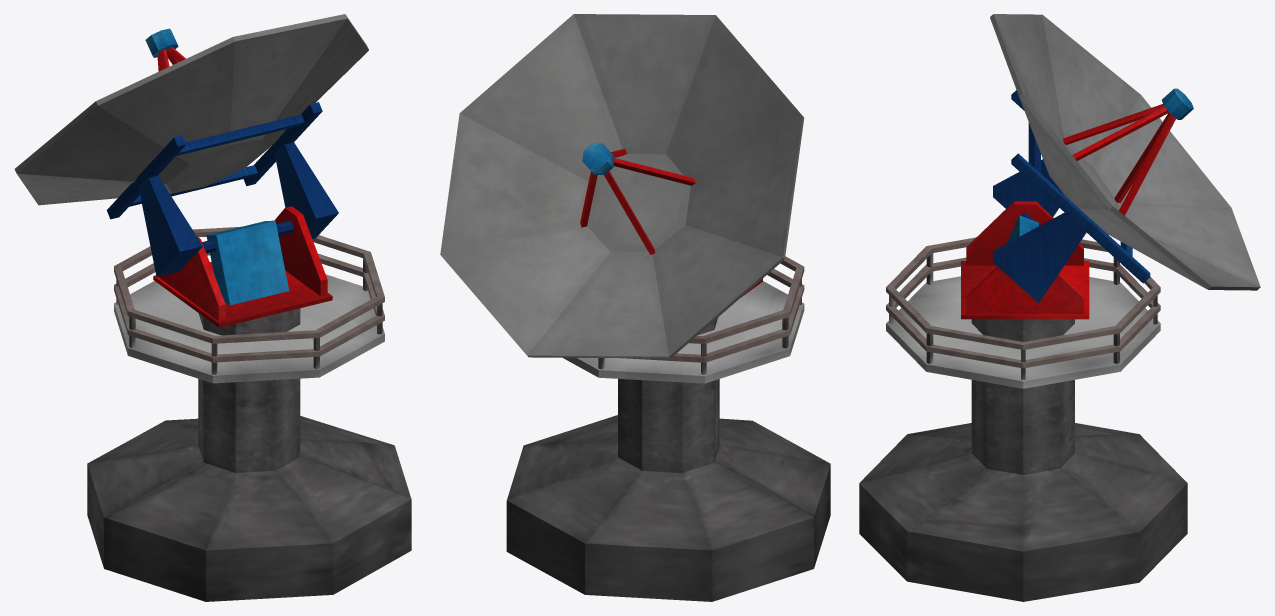
The model's file is TorreRadar1BIDU.fbx.
3 renders of one model, left to right at view 1: azimuth 30°, elevation 25°; view 2: azimuth 150°, elevation 25°; view 3: azimuth 270°, elevation 25°, orthographic. The views are drawn at different scales.
Parts seen in each view (by area): view 1: Base, Torre; view 2: Torre, Base; view 3: Base, Torre.
Part boxes in pixels (x1=…): Base: x1=87, y1=226, x2=411, y2=601; Torre: x1=14, y1=14, x2=368, y2=327; Torre: x1=440, y1=14, x2=804, y2=358; Base: x1=506, y1=256, x2=830, y2=601; Base: x1=859, y1=237, x2=1187, y2=601; Torre: x1=961, y1=14, x2=1260, y2=319.
Size of the model in its own units: 3.99 by 5.81 by 4.19.
